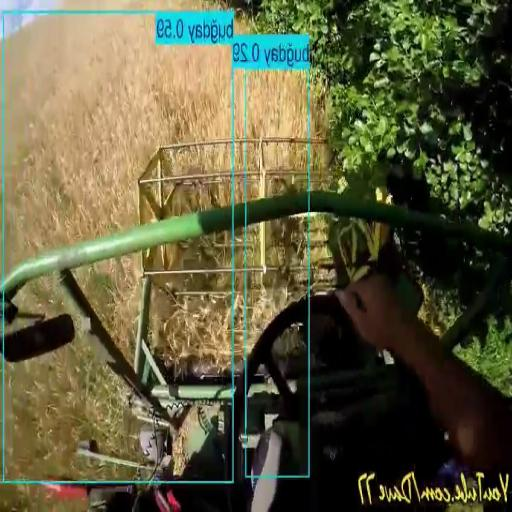bugday: (2, 16, 232, 272), (11, 326, 125, 438), (147, 272, 231, 364), (75, 254, 142, 360), (234, 71, 307, 137), (248, 277, 292, 346)
